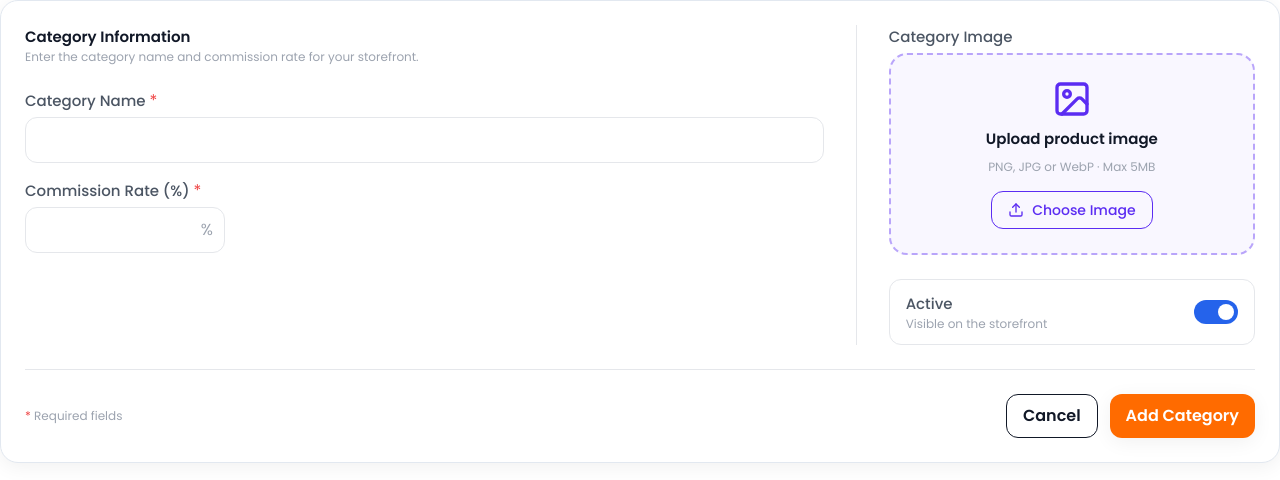
Test: CategoryForm › shows validation errors when submitted empty
Click the button "Add Category": (1182,416) x1=1110 y1=394 x2=1255 y2=438
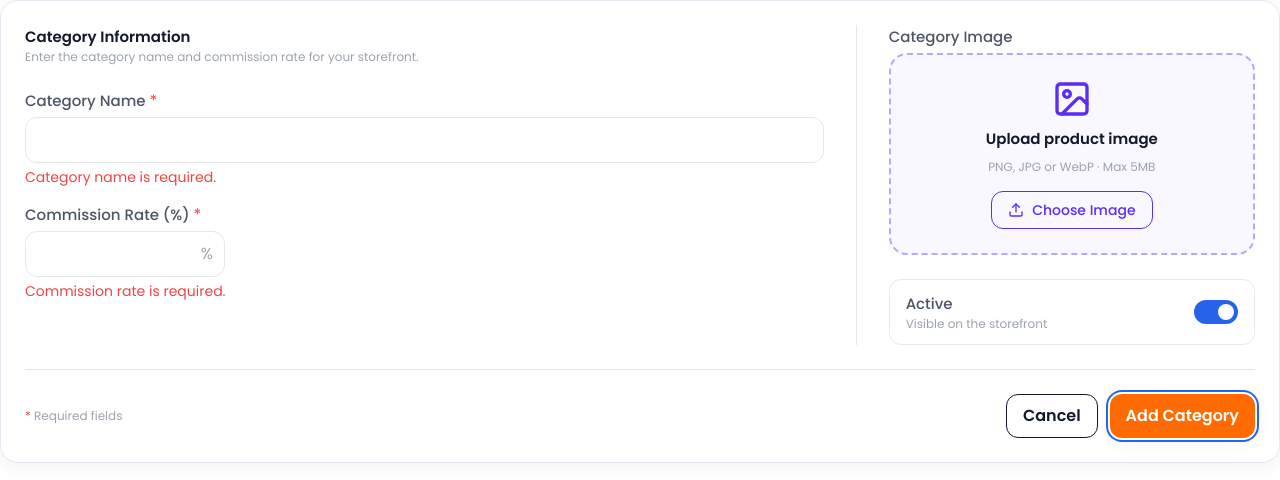
Expected: the text "Category name is required." is shown, x1=25 y1=167 x2=216 y2=187
Expected: the text "Commission rate is required." is shown, x1=25 y1=281 x2=226 y2=301
